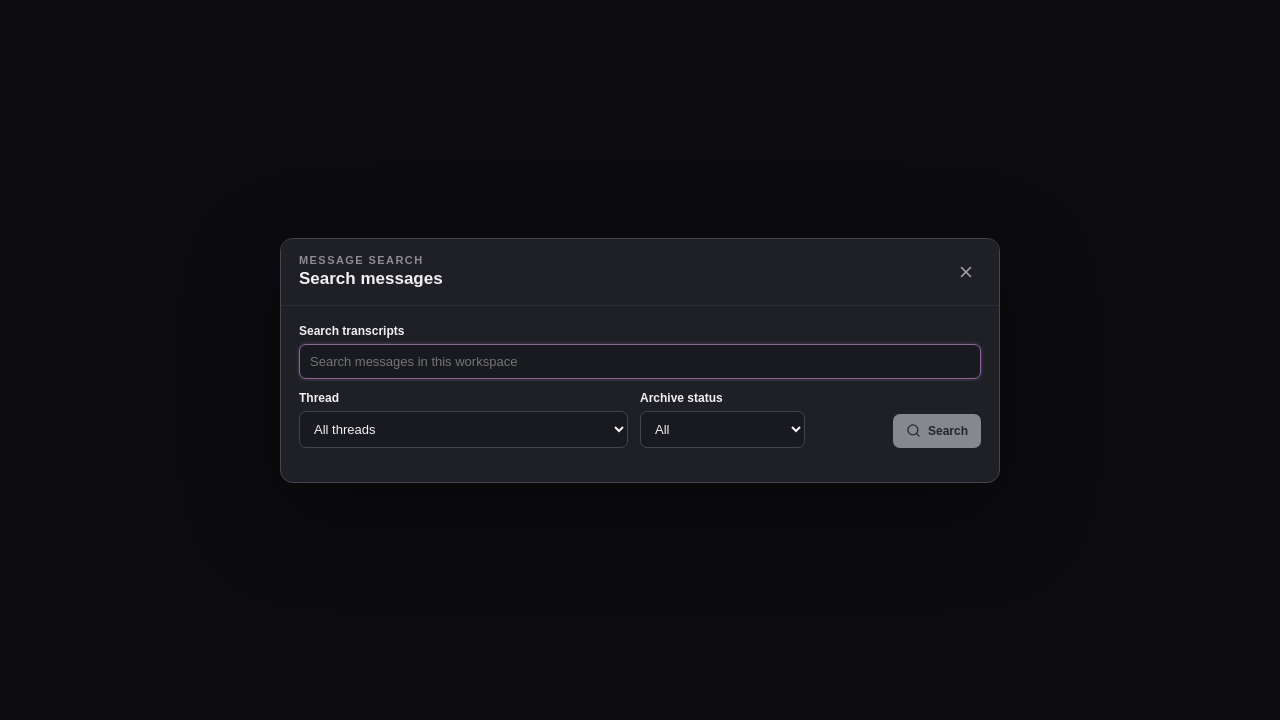
Test: MessageSearchDialog › pages with nextOffset when present and appends results
In the search field: (640,361) [299,344,981,378], type "wire"
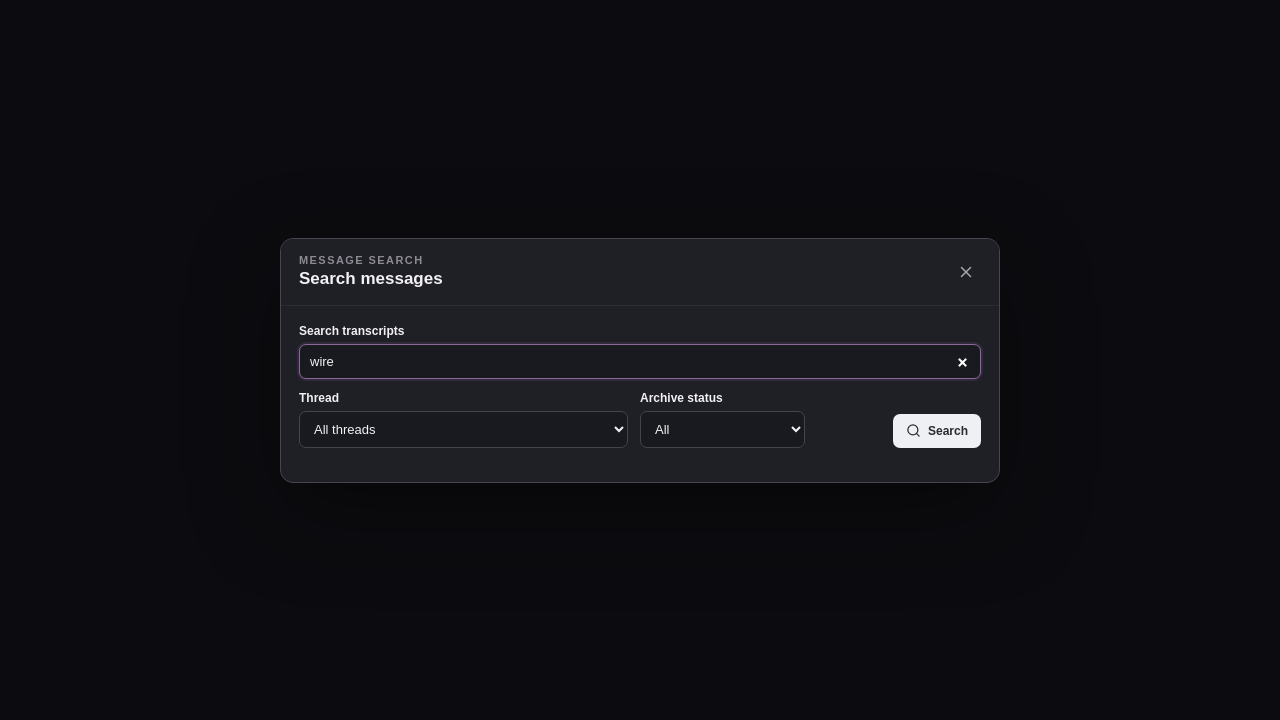
Click the button "Search": (937,430) [893,414,981,448]
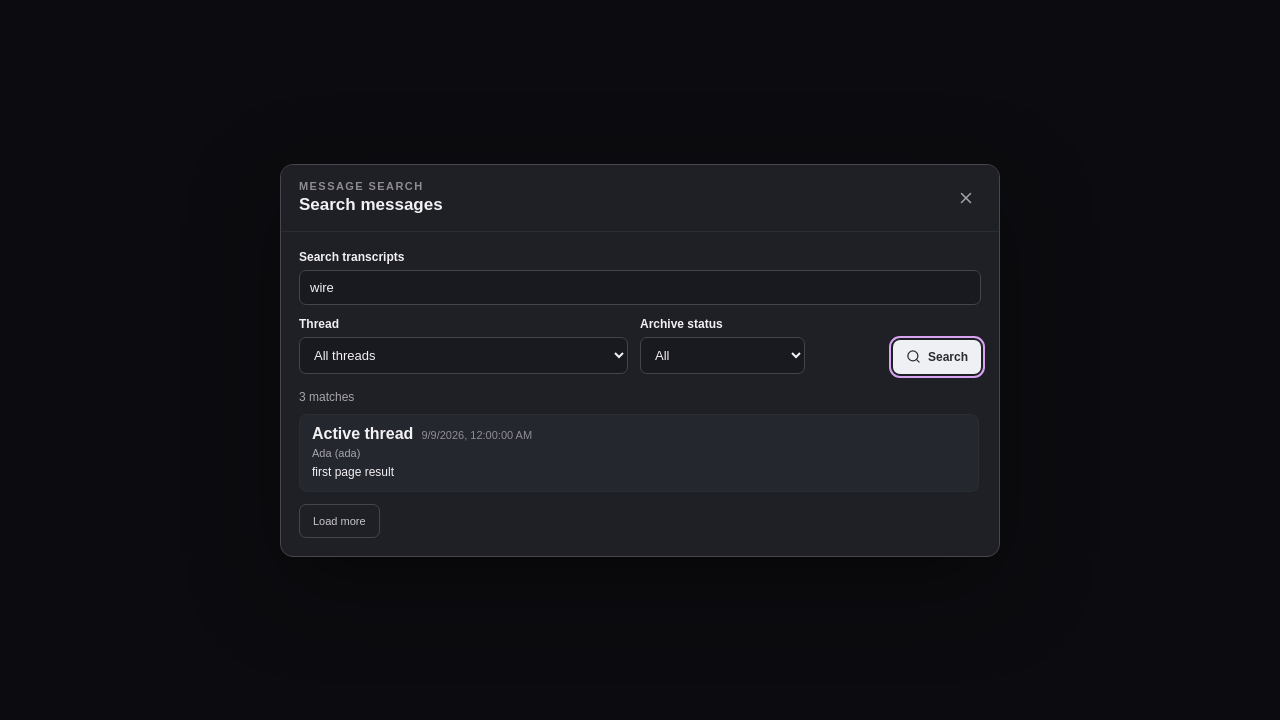
Expected: the text "first page result" is shown, [312,462,394,480]
Click the button "Load more": (339,520) [299,504,380,538]
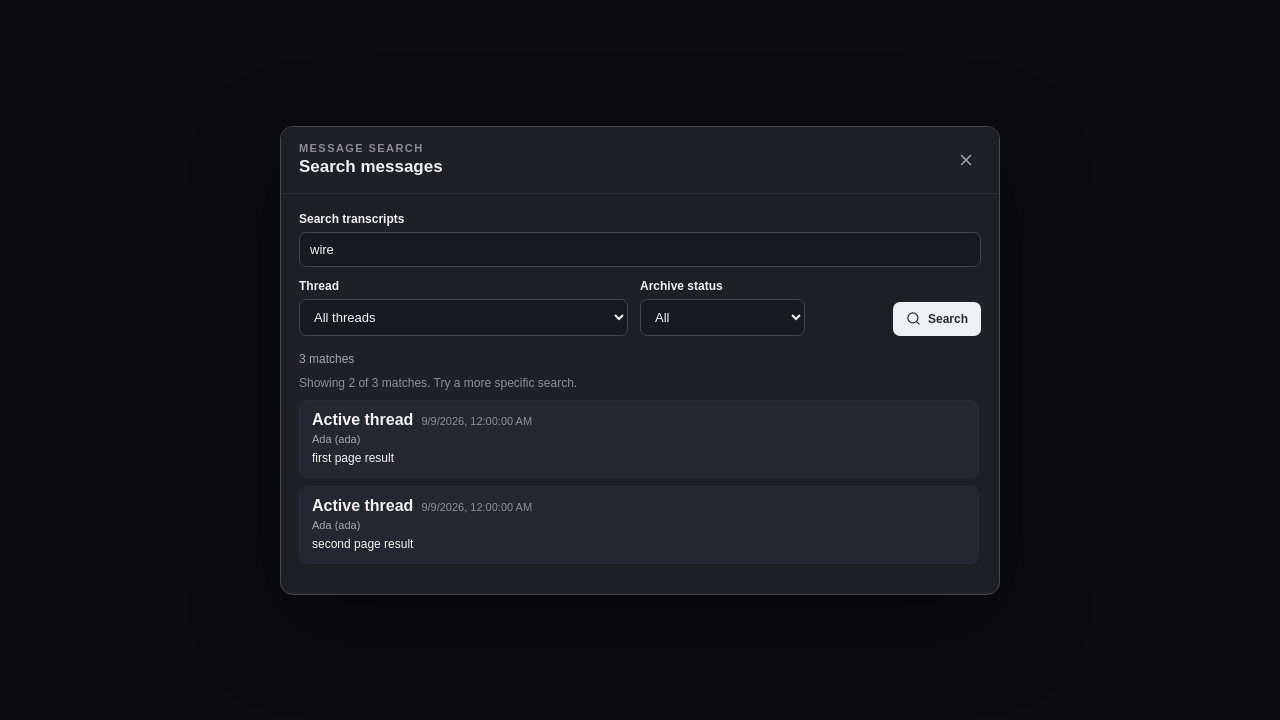
Expected: the text "3 matches" is shown, [299,352,354,366]
Expected: the text "second page result" is shown, [312,534,413,552]
Expected: the text "first page result" is shown once, [312,448,394,466]
